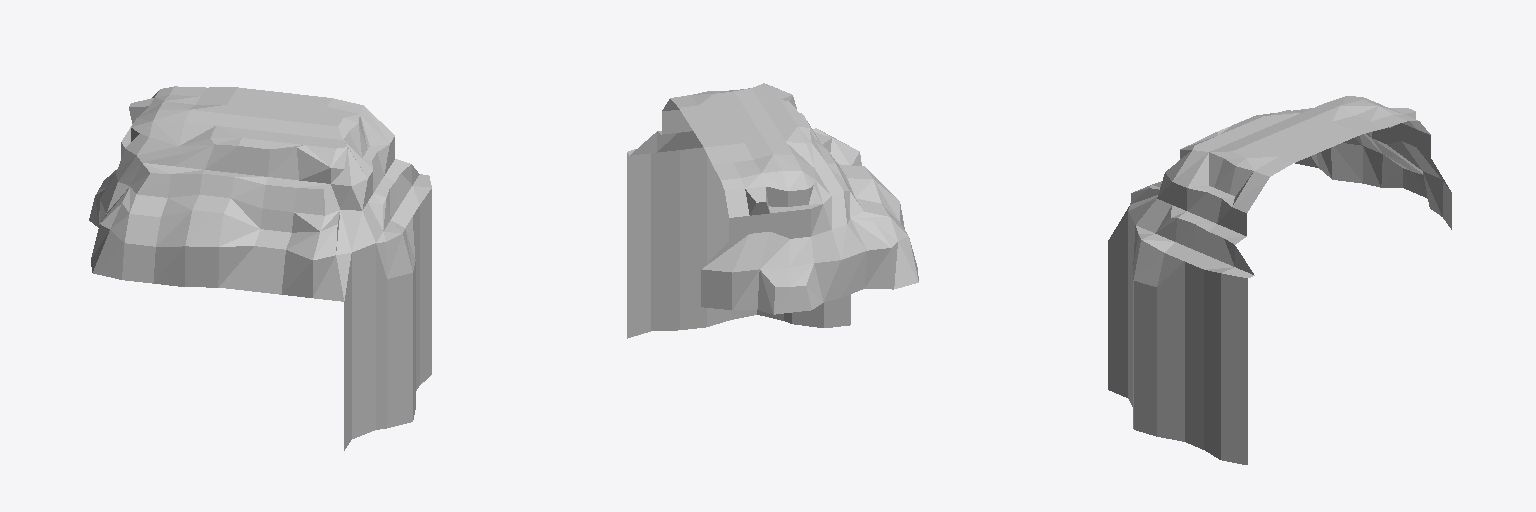
File: mLv1Mountain09.obj
The picture shows the model from 3 angles: view 1: azimuth 30°, elevation 25°; view 2: azimuth 150°, elevation 25°; view 3: azimuth 270°, elevation 25°; orthographic projection.
Parts seen in each view (by area): view 1: mMountain013; view 2: mMountain013; view 3: mMountain013.
Part boxes in pixels (left/top/right/bottom): mMountain013: left=89, top=86, right=431, bottom=450; mMountain013: left=627, top=83, right=918, bottom=338; mMountain013: left=1108, top=96, right=1451, bottom=464.
Size of the model in its own units: 61.26 by 49.47 by 57.98.